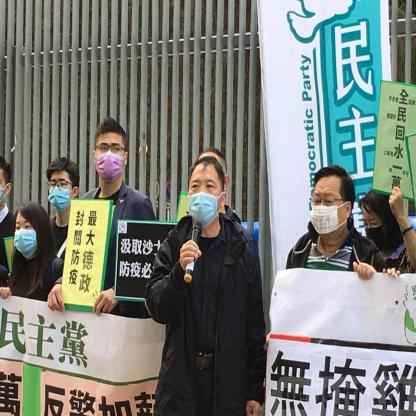Wearing_Mask: (186, 175, 220, 228), (311, 186, 344, 234), (95, 136, 124, 182), (47, 174, 72, 212), (361, 212, 385, 250), (14, 218, 36, 258)
